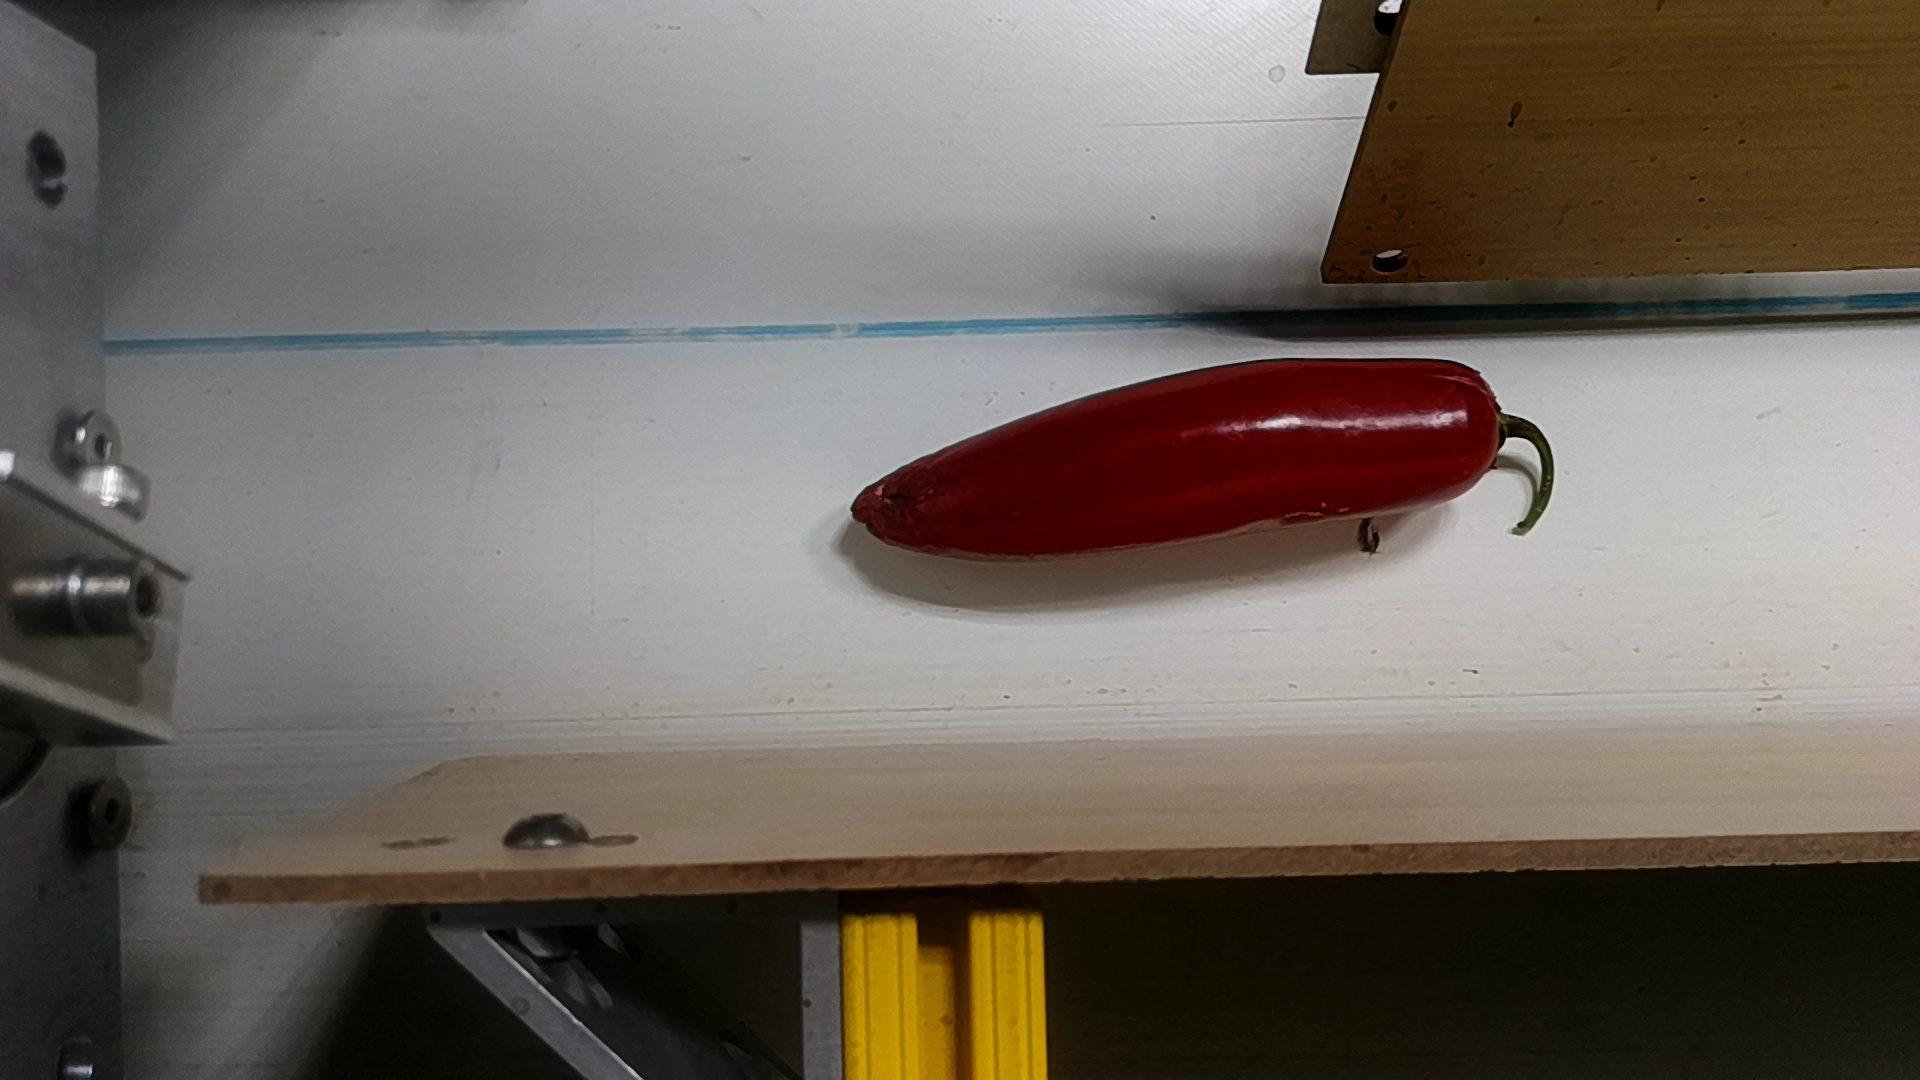Cut Point: (1433, 355, 1542, 512)
